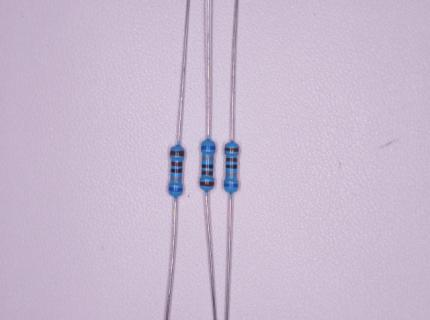Black band: (226, 164, 237, 169), (202, 164, 213, 169), (171, 168, 182, 173)
Blue band: (168, 187, 183, 192), (224, 183, 238, 188), (201, 146, 216, 150)
Brown band: (170, 150, 184, 156), (200, 181, 214, 187), (224, 147, 239, 152), (171, 161, 183, 167), (201, 170, 213, 175), (225, 158, 237, 162)
Grey band: (170, 176, 182, 181), (202, 157, 213, 161), (226, 173, 237, 177)
